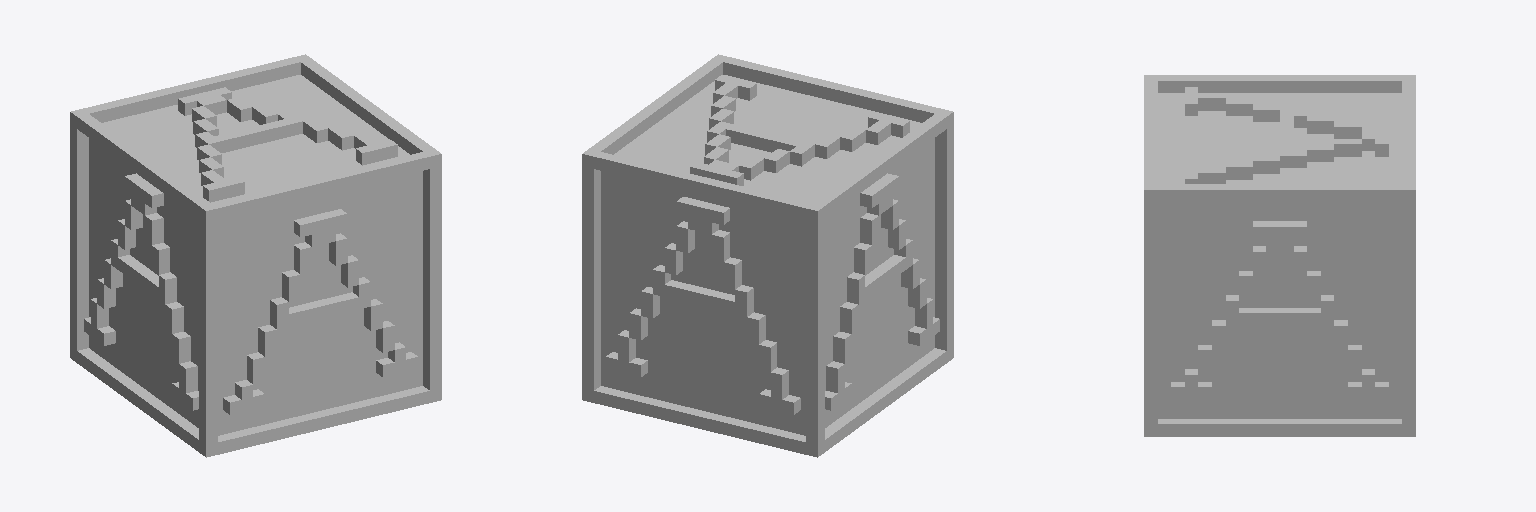
File: Aplhabet Blocks.obj
The picture shows the model from 3 angles: view 1: azimuth 30°, elevation 25°; view 2: azimuth 150°, elevation 25°; view 3: azimuth 270°, elevation 25°; orthographic projection.
Visible parts, largest first — view 1: object 1; view 2: object 1; view 3: object 1.
Boxes of the visible parts, x1,y1,x2,y2 form: object 1: [70, 54, 441, 457]; object 1: [582, 54, 953, 457]; object 1: [1144, 75, 1415, 436].
Size of the model in its own units: 2 by 2 by 2.